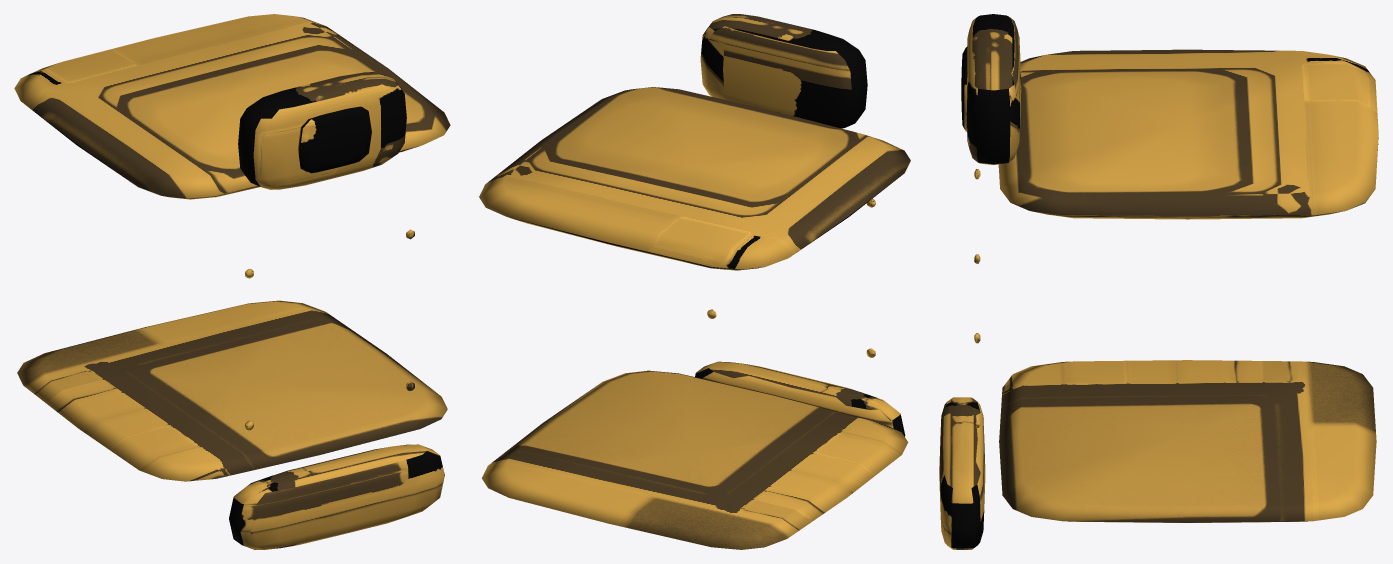
The model's file is Centinela_GrebaDer_Oro.fbx.
3 renders of one model, left to right at view 1: azimuth 30°, elevation 25°; view 2: azimuth 150°, elevation 25°; view 3: azimuth 270°, elevation 25°, orthographic. The views are drawn at different scales.
Visible parts, largest first — view 1: Centinela_GrebaDer_Oro; view 2: Centinela_GrebaDer_Oro; view 3: Centinela_GrebaDer_Oro.
Part boxes in pixels (x1=…): Centinela_GrebaDer_Oro: x1=14, y1=14, x2=450, y2=549; Centinela_GrebaDer_Oro: x1=479, y1=14, x2=910, y2=549; Centinela_GrebaDer_Oro: x1=939, y1=14, x2=1378, y2=549.
Size of the model in its own units: 1.2 by 1.6 by 1.36.
